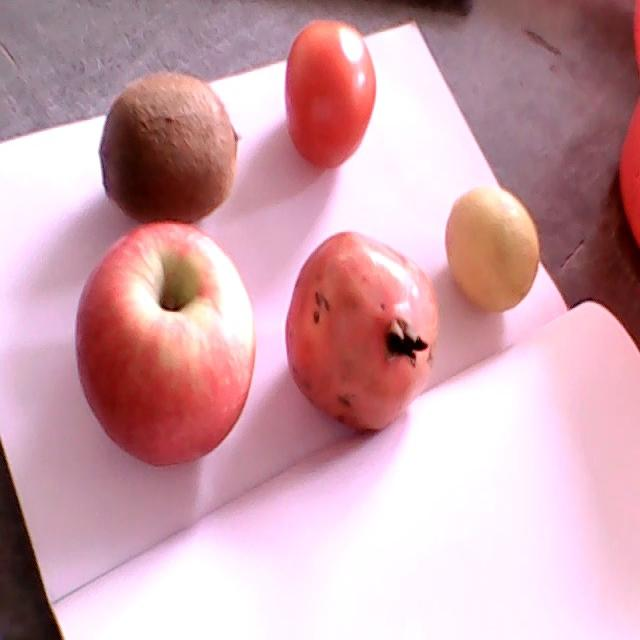apple: (73, 222, 256, 466)
kiwi: (99, 69, 238, 223)
lemon: (444, 187, 540, 311)
pomegranate: (286, 232, 439, 433)
tomato: (285, 20, 375, 167)
